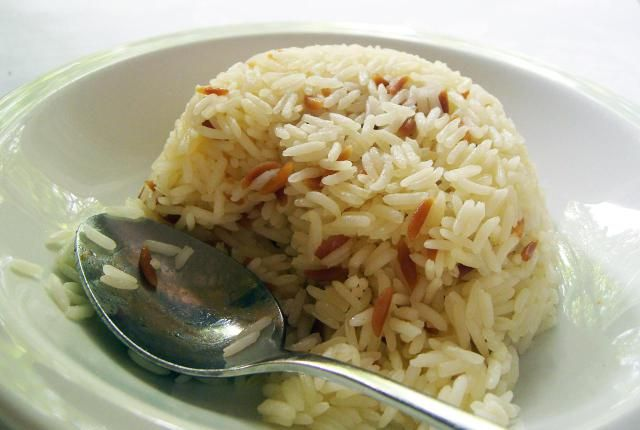plain rice: (175, 42, 545, 414)
